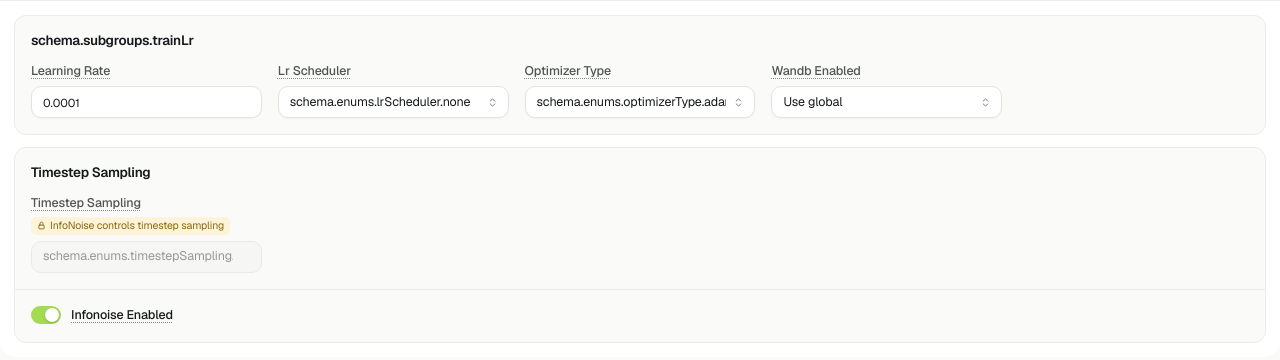
Scenario: SchemaForm takeover behavior › disables InfoNoise-controlled timestep fields and uses frontend alt descriptions
The image size is (1280, 360).
Expected: the dropdown named "Timestep Sampling" is disabled, [31, 241, 262, 273]
Expected: the text "InfoNoise controls timestep sampling" is shown, [31, 217, 230, 235]
// The description lives in the hover tip on the field name.
Hover over the 5th text with class "ds-label" at (86,203), box [31, 194, 141, 211]
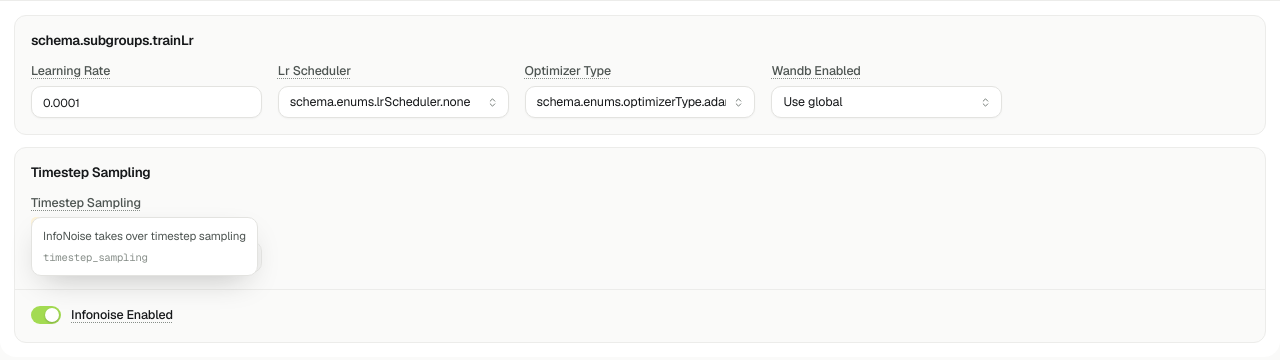
Now the tooltip shows "InfoNoise takes over timestep sampling", box [43, 228, 246, 243]
